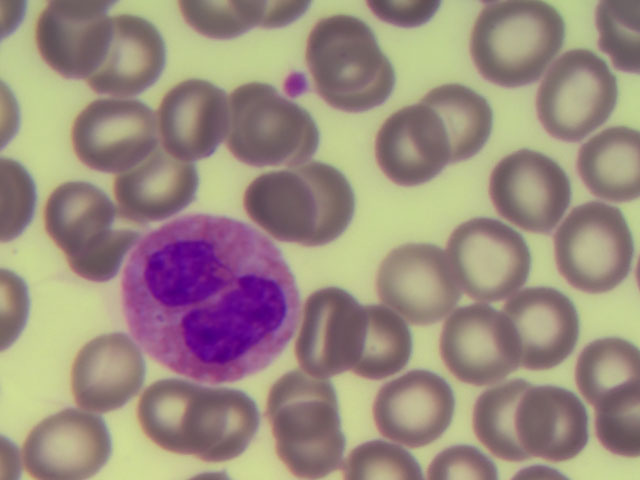Platelets: (279, 66, 312, 98)
RBC: (38, 2, 117, 76), (87, 18, 166, 92), (78, 91, 157, 165), (120, 152, 199, 226), (30, 174, 109, 248), (157, 89, 236, 163), (217, 89, 296, 163), (240, 170, 319, 244), (284, 167, 363, 241), (365, 111, 444, 185), (421, 83, 500, 157), (305, 15, 384, 89), (329, 42, 408, 116), (476, 5, 555, 79), (536, 54, 615, 128), (561, 125, 640, 199), (490, 151, 569, 225), (561, 210, 640, 284), (450, 218, 529, 292), (375, 249, 454, 323), (350, 312, 429, 386), (298, 290, 377, 364), (269, 359, 348, 433), (265, 403, 344, 477), (190, 383, 269, 457), (126, 380, 205, 454), (64, 333, 143, 407), (24, 406, 103, 480), (383, 366, 462, 440), (467, 377, 546, 451), (511, 389, 590, 463), (448, 312, 527, 386), (506, 285, 585, 359), (561, 329, 640, 403)
WBC: (125, 213, 302, 380)
